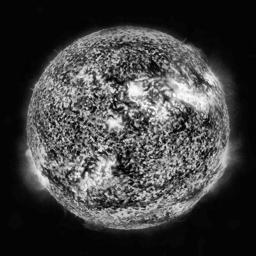solar flares: (170, 83, 206, 110), (145, 97, 170, 119), (91, 155, 114, 177), (123, 78, 143, 98), (105, 117, 127, 131)
sunspots: (46, 169, 77, 190), (99, 188, 131, 205), (115, 150, 135, 173), (145, 58, 162, 81), (82, 154, 100, 174), (128, 116, 148, 133), (104, 71, 124, 86), (175, 164, 194, 179), (192, 71, 205, 92), (200, 142, 215, 158), (178, 112, 189, 132), (202, 112, 214, 129), (70, 118, 85, 131), (117, 40, 134, 47), (114, 97, 123, 108), (189, 184, 196, 194)
